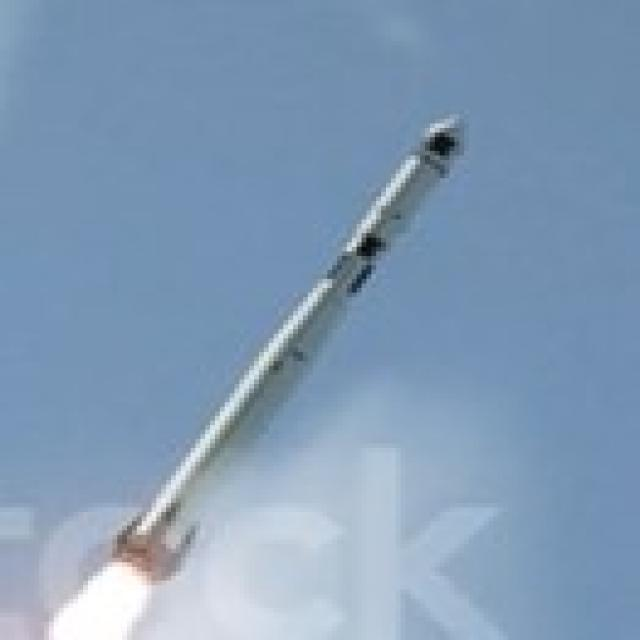Missile: (108, 102, 483, 591)
